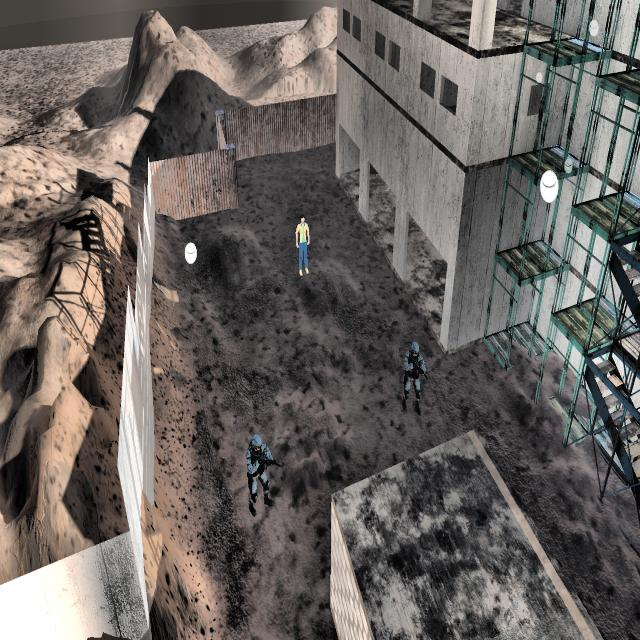bad: (239, 422, 279, 516), (396, 325, 431, 424)
good: (284, 204, 318, 284)
